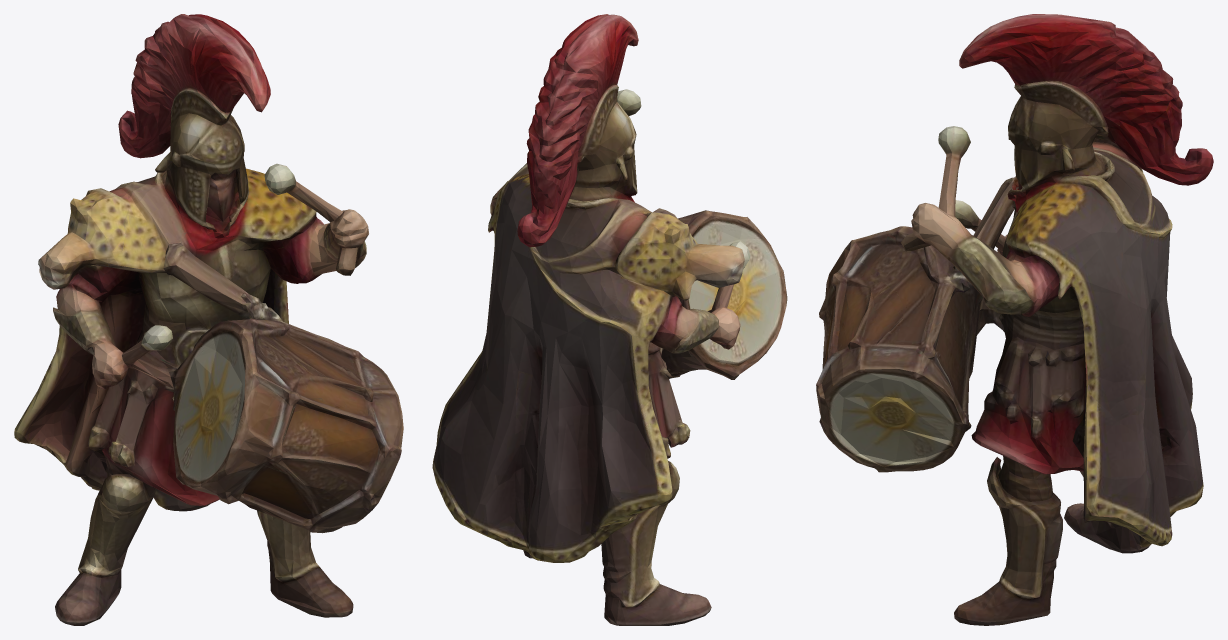
Rendered from drumCarrier.glb.
3 views of the same model, side by side, from view 1: azimuth 30°, elevation 25°; view 2: azimuth 150°, elevation 25°; view 3: azimuth 270°, elevation 25° (orthographic). The views are drawn at different scales.
Visible parts, largest first — view 1: world; view 2: world; view 3: world.
Boxes of the visible parts, x1,y1,x2,y2 form: world: (14,14,403,625); world: (432,14,787,625); world: (816,14,1213,625).
Bounding box in the file's own units: 0.5509 × 0.9989 × 0.6355.
Materials: 1 (1 with a texture image).
